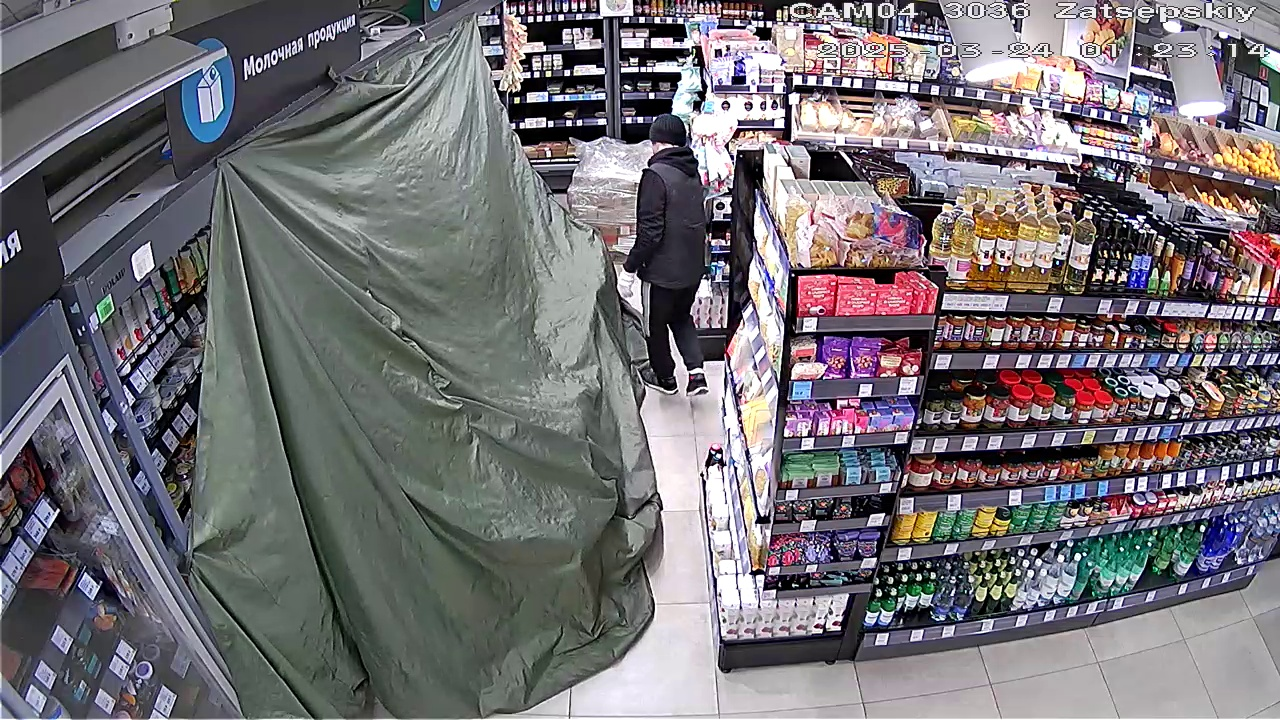Human: (630, 112, 714, 391)
dome: (198, 26, 662, 712)
pallet: (563, 136, 647, 239)
